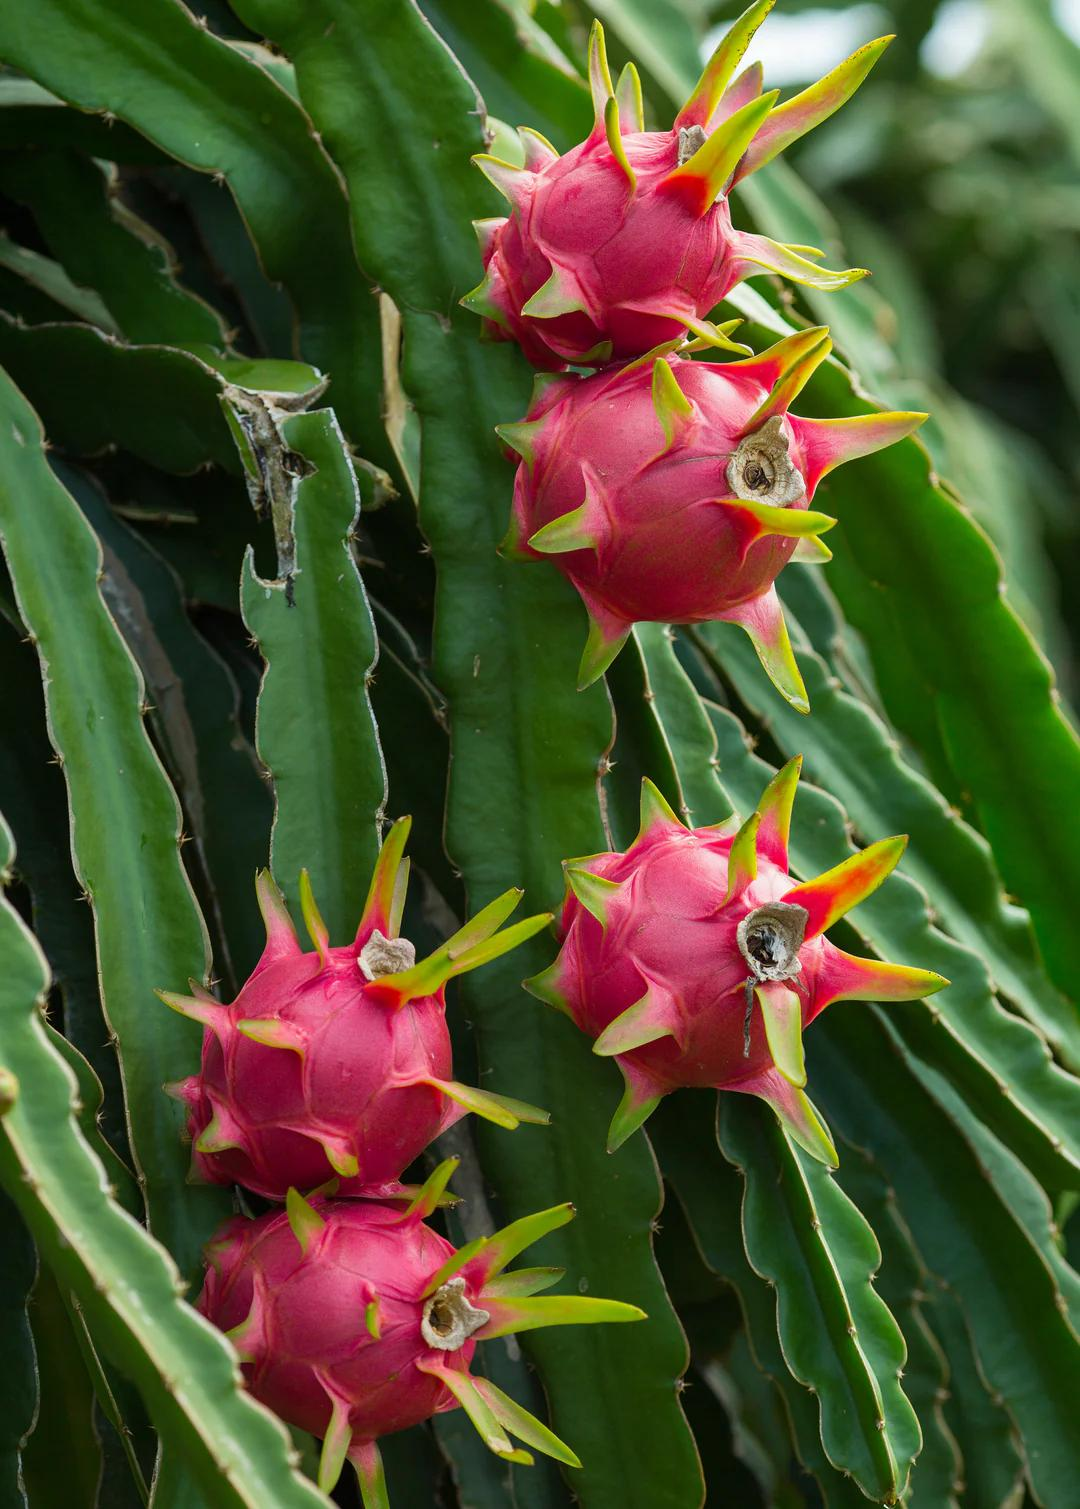dragon fruit: (470, 327, 954, 743), (551, 745, 967, 1193), (434, 11, 906, 359), (126, 817, 542, 1183), (167, 1184, 655, 1472)
